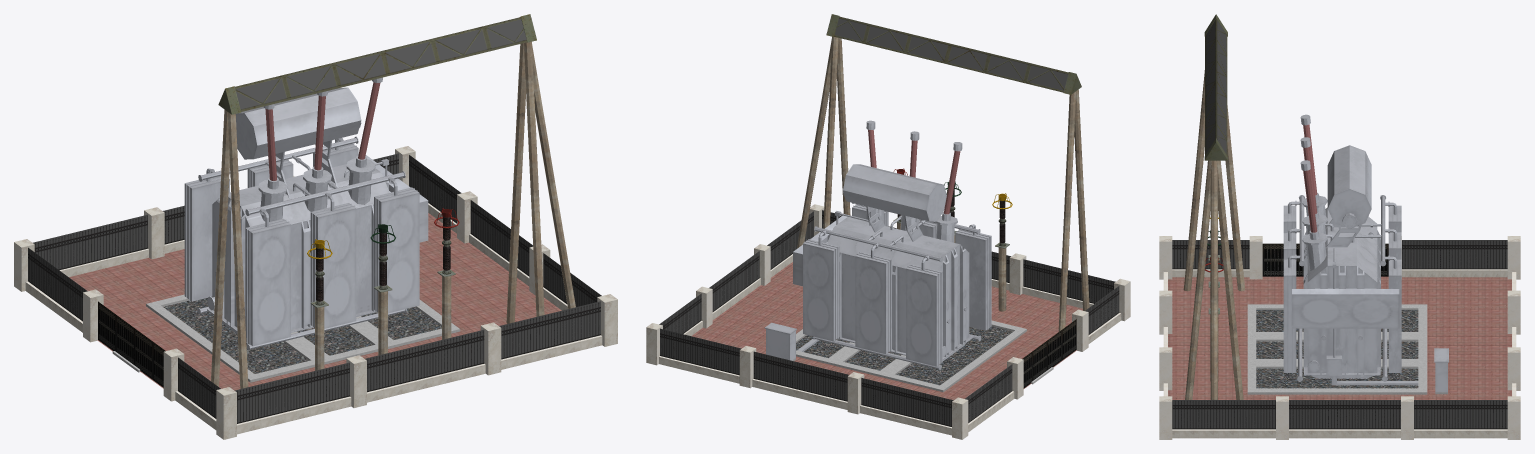
File: dianqi.FBX
3 views of the same model, side by side, from view 1: azimuth 30°, elevation 25°; view 2: azimuth 150°, elevation 25°; view 3: azimuth 270°, elevation 25° (orthographic). The views are drawn at different scales.
Parts seen in each view (by area): view 1: 56 (×2), 50, 44, 45, 48, 52, 53, 49, 47, 51; view 2: 56 (×2), 50, 44, 45, 48, 52, 53, 54, 49, 47, 51; view 3: 56 (×2), 45, 50, 44, 48, 52, 53, 54, 51.
Part boxes in pixels (x1,y1,x2,y2): 56 (×2): (146, 17, 526, 382); 50: (28, 153, 601, 423); 44: (14, 146, 617, 439); 45: (69, 213, 561, 390); 48: (211, 41, 575, 388); 52: (163, 297, 441, 373); 53: (98, 301, 165, 387); 49: (307, 208, 459, 308); 47: (315, 276, 451, 370); 51: (218, 14, 536, 114); 56 (×2): (793, 16, 1068, 392); 50: (659, 210, 1119, 426); 44: (646, 204, 1130, 439); 45: (691, 262, 1082, 400); 48: (797, 36, 1089, 331); 52: (796, 326, 1012, 385); 53: (1022, 319, 1076, 388); 54: (764, 322, 796, 361); 49: (893, 168, 1012, 248); 47: (897, 222, 1006, 311); 51: (826, 14, 1081, 94); 56 (×2): (1205, 19, 1427, 394); 45: (1168, 276, 1511, 399); 50: (1172, 240, 1507, 429); 44: (1159, 236, 1520, 439); 48: (1183, 70, 1244, 399); 52: (1256, 310, 1418, 388); 53: (1262, 243, 1388, 276); 54: (1434, 348, 1448, 394); 51: (1204, 14, 1227, 160).
Bounding box in the file's own units: 304 × 239 × 280.
